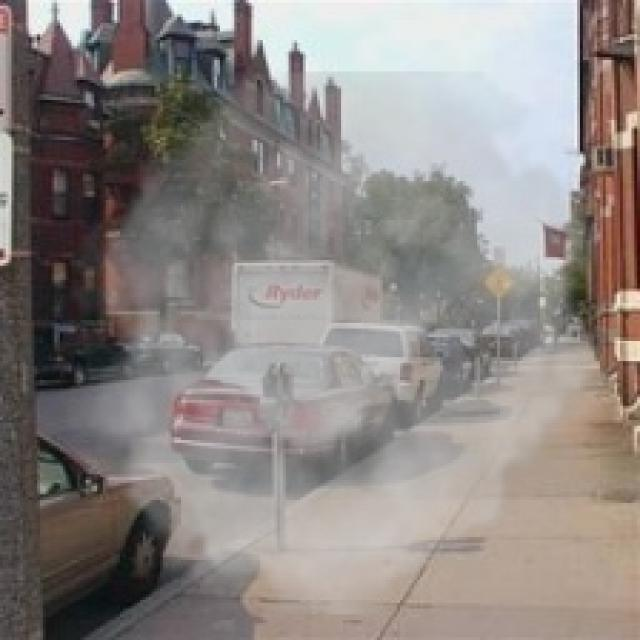Smoke: (60, 71, 623, 614)
